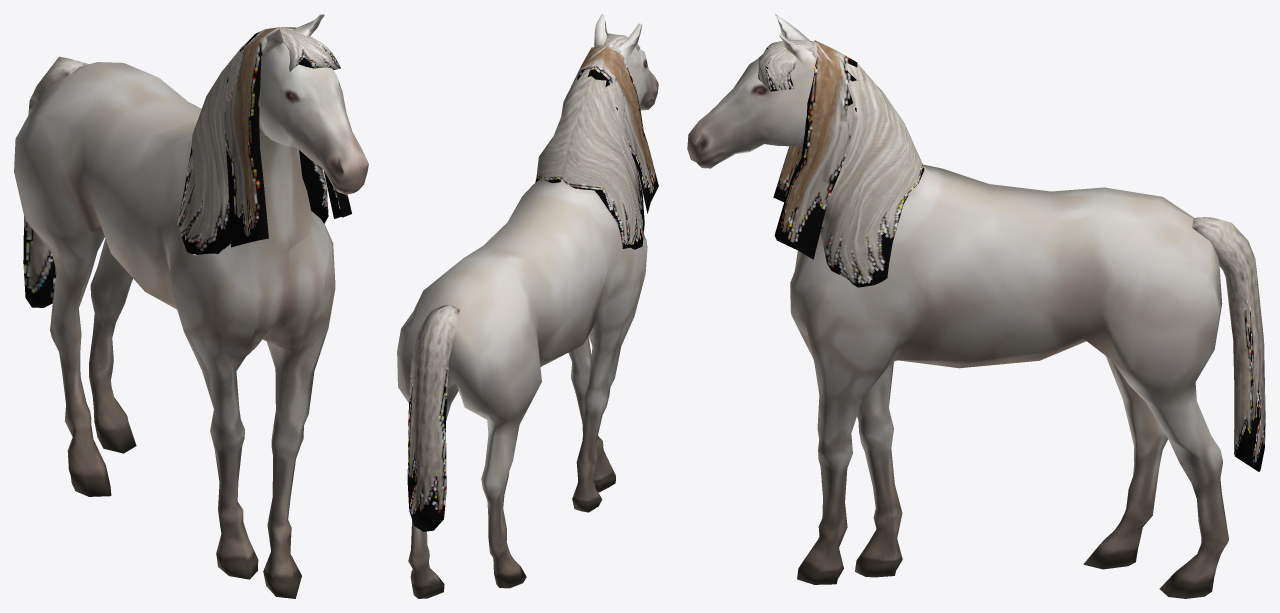
The model's file is body-base.glb.
The picture shows the model from 3 angles, left to right: view 1: azimuth 30°, elevation 25°; view 2: azimuth 150°, elevation 25°; view 3: azimuth 270°, elevation 25°; orthographic projection. The views are drawn at different scales.
Size of the model in its own units: 0.6615 by 2.58 by 2.44.
1 material, 1 textured.
